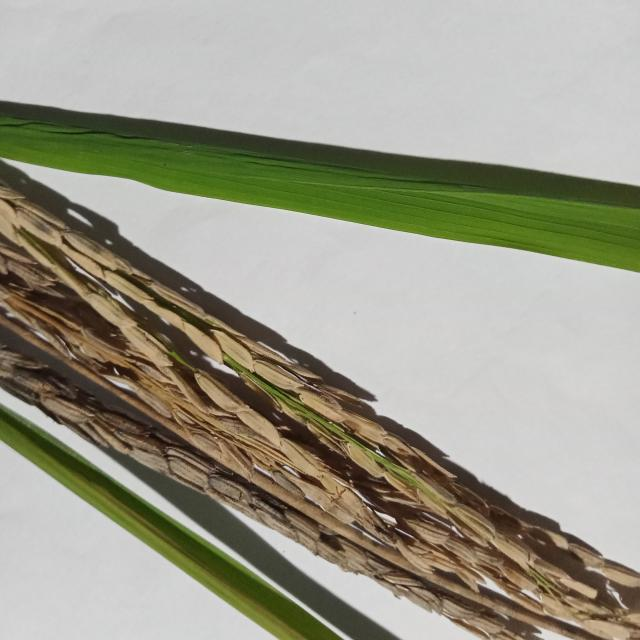Neck_Blast: (0, 166, 640, 640)
